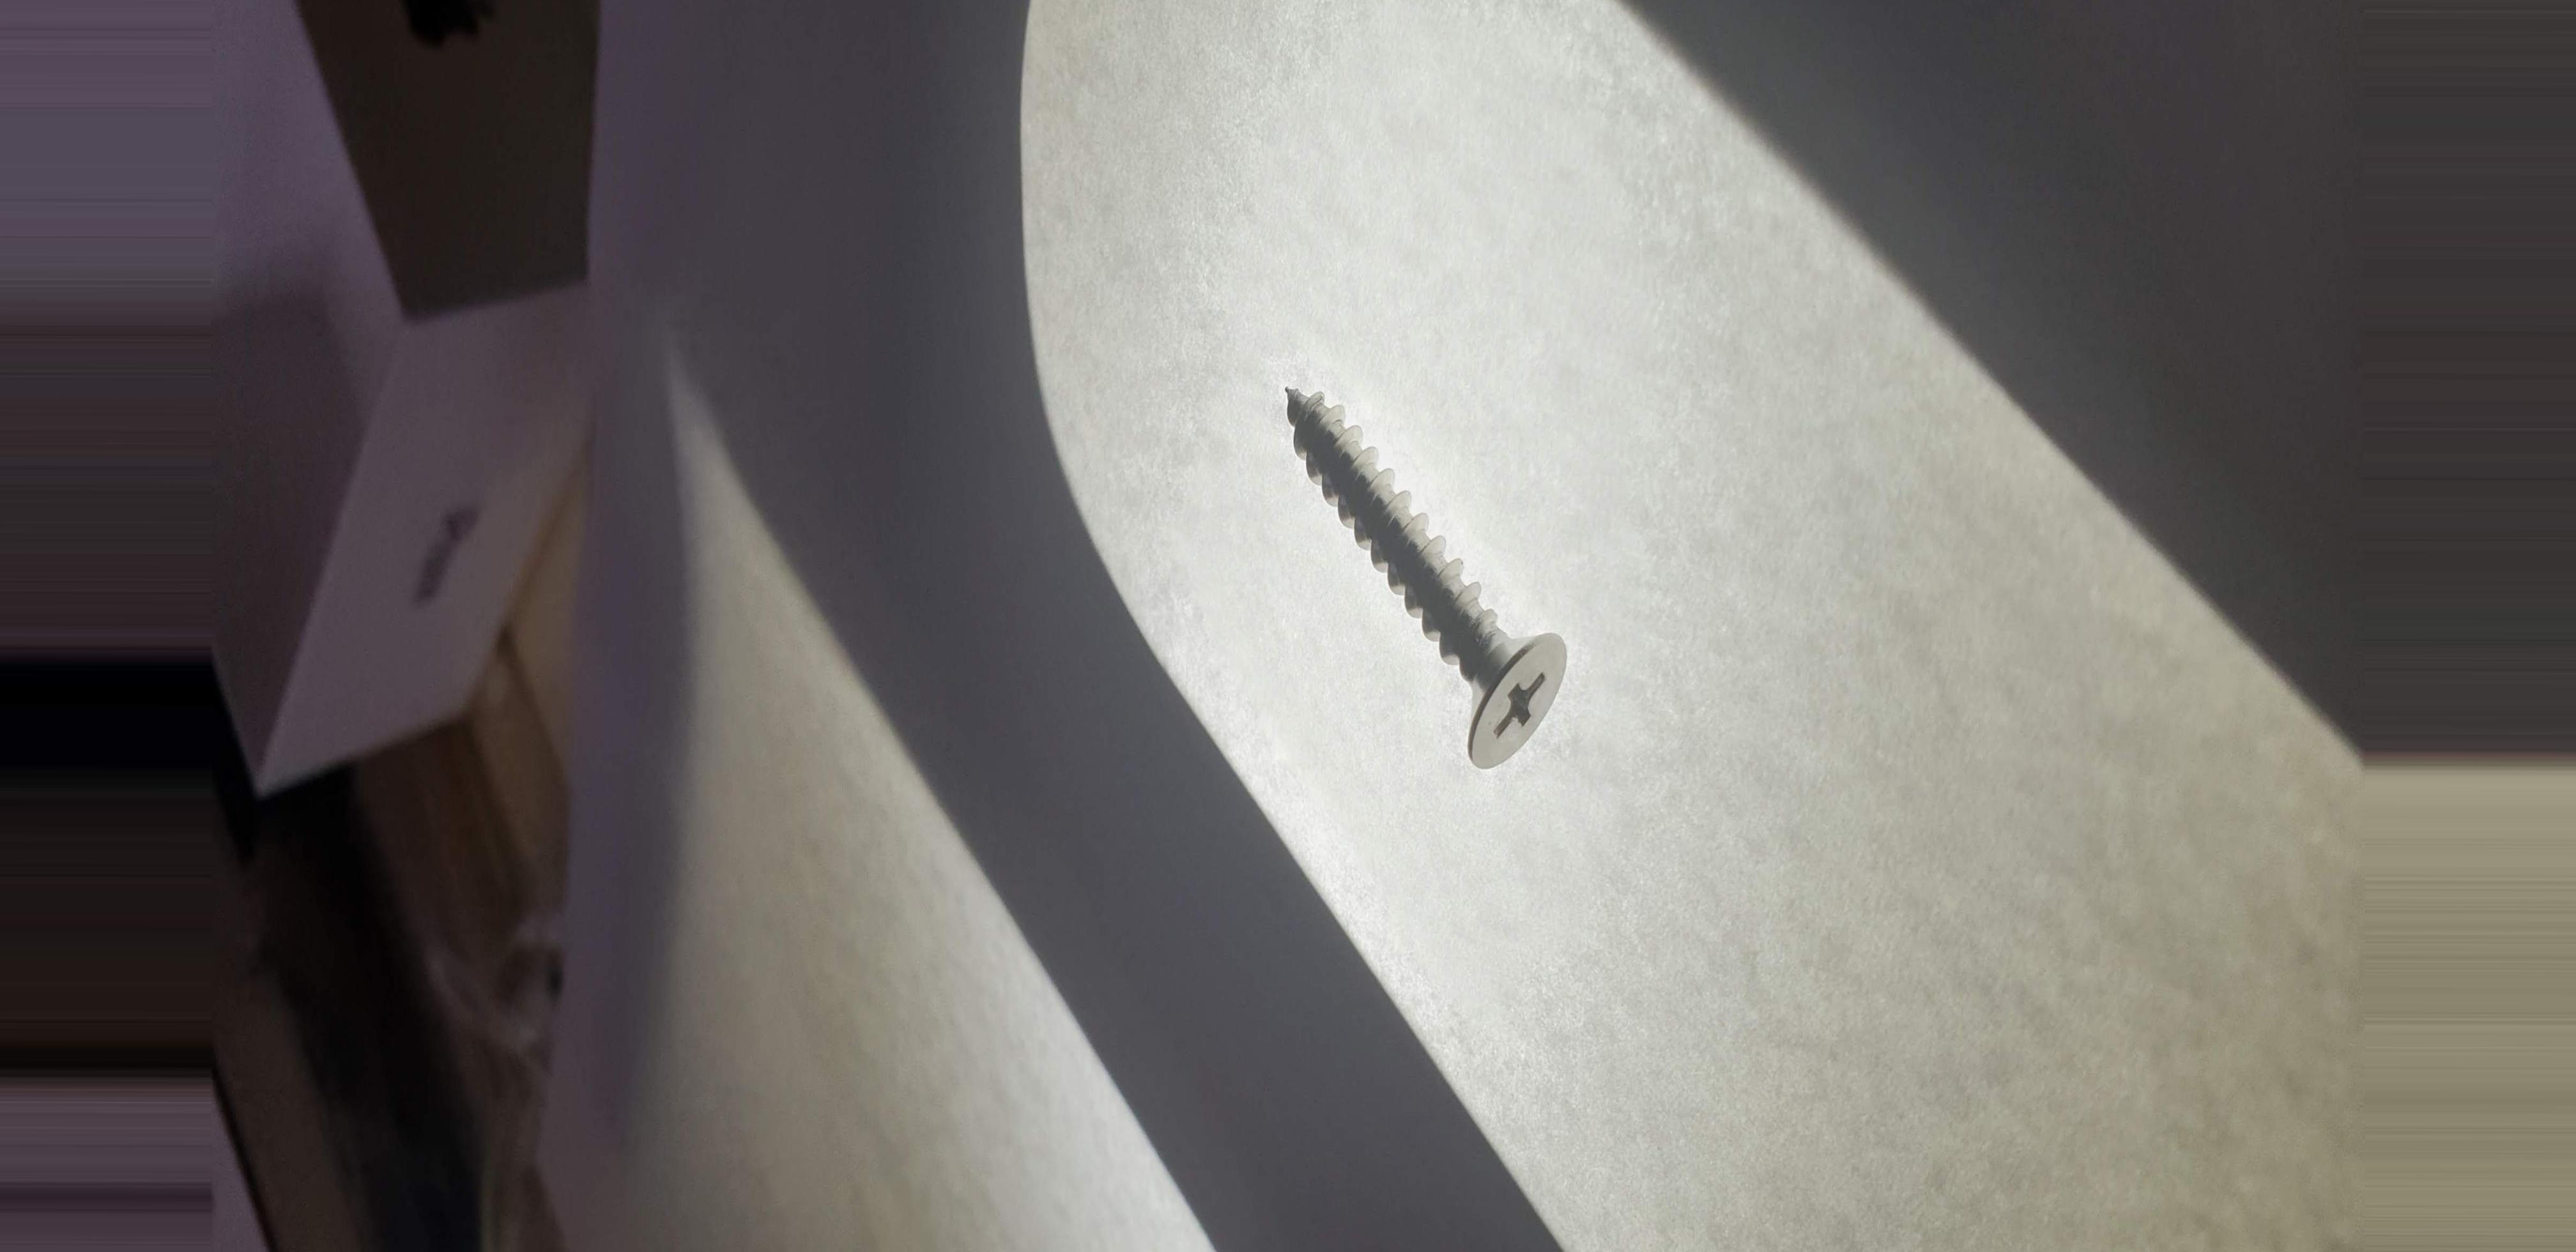S004: (1242, 334, 1636, 820)
